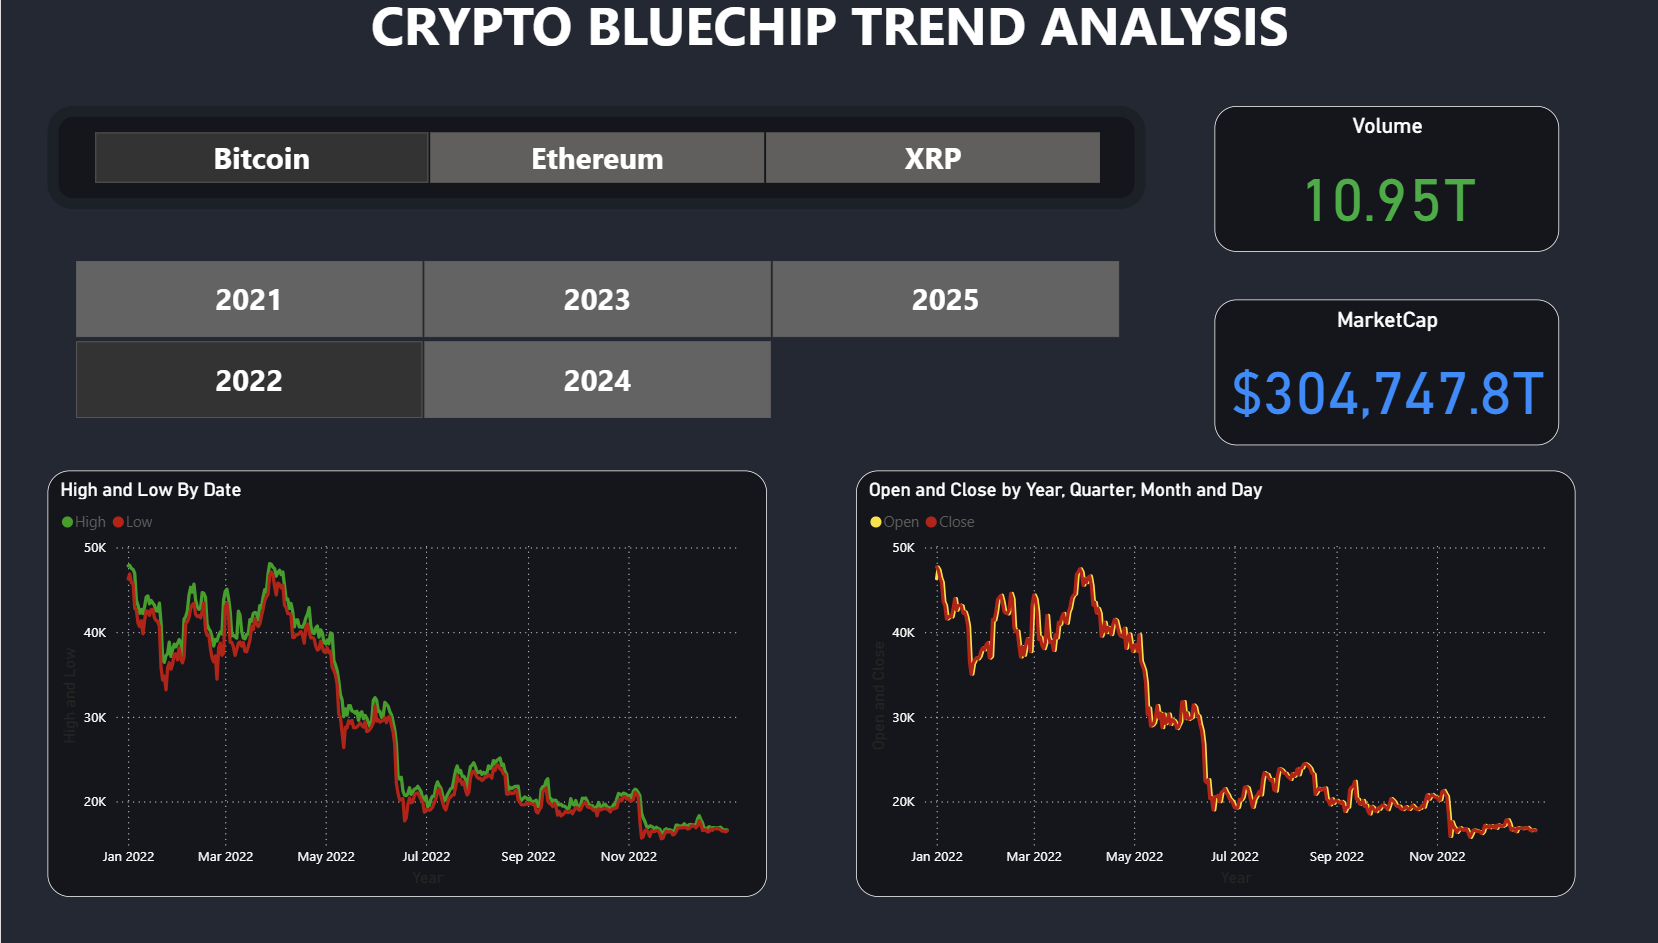

Layout of this report page (visuals, bound fields, positions):
{"tool":"powerbi","page":{"name":"Page 2","canvas":[1500,900],"ordinal":1},"visuals":[{"type":"slicer","fields":{"Values":["crypto_data_2021_2025.Name"]},"box":[41.8,141.5,993.8,93.3],"z":0},{"type":"slicer","fields":{"Values":["crypto_data_2021_2025.Year"]},"box":[42,274,994,156],"z":1000},{"type":"lineChart","title":"High and Low By Date","fields":{"Category":["crypto_data_2021_2025.Date.Variation.Date Hierarchy.Year","crypto_data_2021_2025.Date.Variation.Date Hierarchy.Quarter","crypto_data_2021_2025.Date.Variation.Date Hierarchy.Month","crypto_data_2021_2025.Date.Variation.Date Hierarchy.Day"],"Y":["Sum(crypto_data_2021_2025.High_Fixed)","Sum(crypto_data_2021_2025.Low_Fixed)"]},"box":[41.8,471.2,651.3,385.9],"z":2000},{"type":"textbox","box":[330,28.6,974.3,64.3],"z":4000},{"type":"card","title":"MarketCap","fields":{"Values":["Sum(crypto_data_2021_2025.Marketcap)"]},"box":[1098.3,316.8,312,131.9],"z":5000},{"type":"card","title":"Volume","fields":{"Values":["Sum(crypto_data_2021_2025.Volume_Fixed)"]},"box":[1098.3,141.5,312,131.9],"z":6000},{"type":"lineChart","fields":{"Category":["crypto_data_2021_2025.Date.Variation.Date Hierarchy.Year","crypto_data_2021_2025.Date.Variation.Date Hierarchy.Quarter","crypto_data_2021_2025.Date.Variation.Date Hierarchy.Month","crypto_data_2021_2025.Date.Variation.Date Hierarchy.Day"],"Y":["Sum(crypto_data_2021_2025.Open_Fixed)","Sum(crypto_data_2021_2025.Close_Fixed)"]},"box":[773.5,471.2,651.3,385.9],"z":7000}]}

Visuals, with their boxes on the page's 1500x900 design canvas (x1, y1, x2, y2). These are canvas units, not pixel positions in the 1658x943 screenshot, which may show the page scaled, cropped or inside an application window:
slicer - crypto_data_2021_2025.Name: 42, 142, 1036, 235
slicer - crypto_data_2021_2025.Year: 42, 274, 1036, 430
"High and Low By Date" lineChart: 42, 471, 693, 857
textbox: 330, 29, 1304, 93
"MarketCap" card: 1098, 317, 1410, 449
"Volume" card: 1098, 142, 1410, 273
lineChart - crypto_data_2021_2025.Date.Variation.Date Hierarchy.Year x crypto_data_2021_2025.Date.Variation.Date Hierarchy.Quarter: 774, 471, 1425, 857
